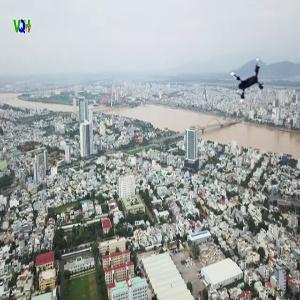drone: (218, 52, 275, 109)
